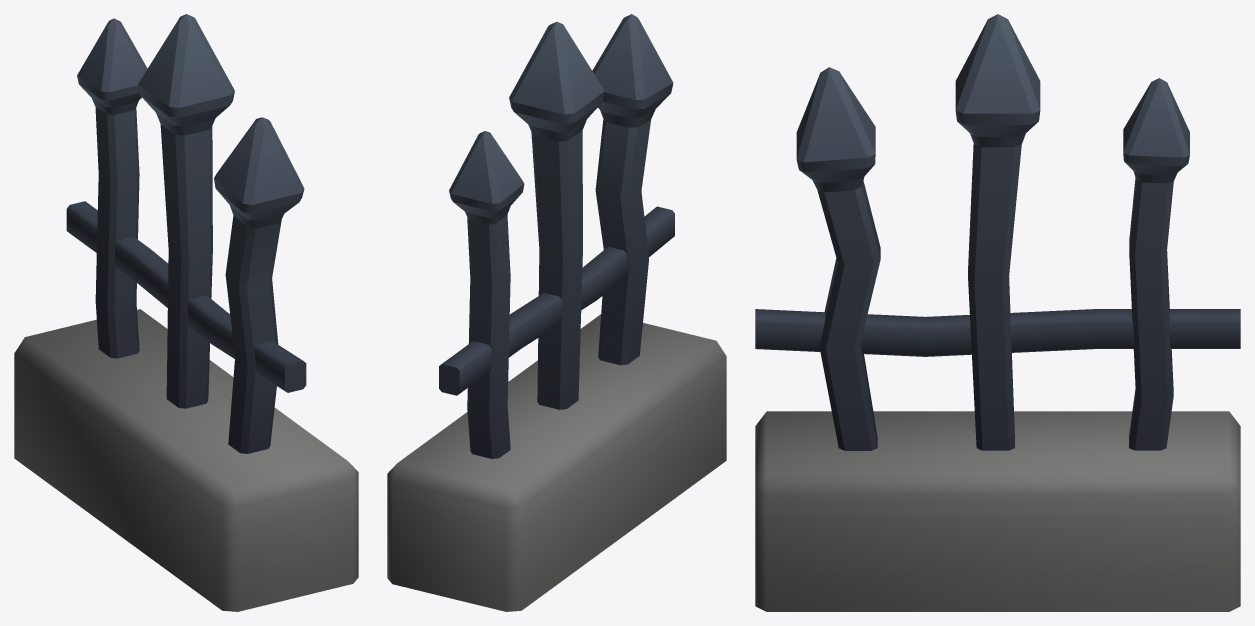
File: Fence_4_1.glb
3 renders of one model, left to right at view 1: azimuth 30°, elevation 25°; view 2: azimuth 150°, elevation 25°; view 3: azimuth 270°, elevation 25°, orthographic. The views are drawn at different scales.
Parts seen in each view (by area): view 1: Fence_4_1; view 2: Fence_4_1; view 3: Fence_4_1.
Part boxes in pixels (x1,y1,x2,y2): Fence_4_1: [14, 14, 358, 611]; Fence_4_1: [387, 14, 726, 611]; Fence_4_1: [755, 14, 1240, 611].
Size of the model in its own units: 0.3513 by 1.24 by 0.9745.
Materials: 2 (2 with a texture image).
